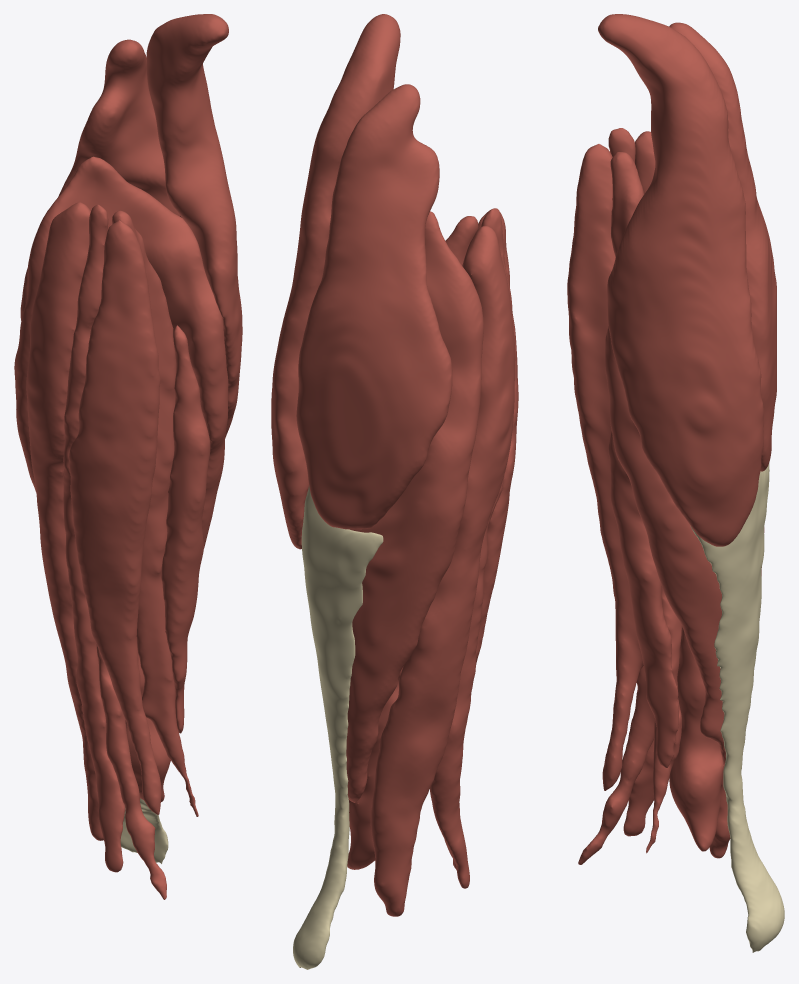
The model's file is leg.glb.
3 renders of one model, left to right at view 1: azimuth 30°, elevation 25°; view 2: azimuth 150°, elevation 25°; view 3: azimuth 270°, elevation 25°, orthographic. The views are drawn at different scales.
Parts seen in each view (by area): view 1: tibialis-anterior, soleus, gastrocnemius-medial, peroneus-longus, tibialis-posterior, extensor-digitorum-longus, flexor-digitorum-longus, gastrocnemius-lateral, extensor-hallucis-longus, flexor-hallucis-longus, achilles-tendon; view 2: gastrocnemius-lateral, peroneus-longus, soleus, gastrocnemius-medial, achilles-tendon, extensor-digitorum-longus, tibialis-anterior, flexor-hallucis-longus, tibialis-posterior; view 3: gastrocnemius-medial, tibialis-anterior, achilles-tendon, soleus, flexor-digitorum-longus, gastrocnemius-lateral, flexor-hallucis-longus, tibialis-posterior, extensor-hallucis-longus, extensor-digitorum-longus, peroneus-longus.
Part boxes in pixels (left/top/right/bottom): tibialis-anterior: left=69, top=220, right=161, bottom=814; soleus: left=14, top=156, right=228, bottom=547; gastrocnemius-medial: left=146, top=14, right=242, bottom=437; peroneus-longus: left=26, top=202, right=103, bottom=840; tibialis-posterior: left=112, top=210, right=198, bottom=816; extensor-digitorum-longus: left=63, top=204, right=125, bottom=872; flexor-digitorum-longus: left=161, top=325, right=210, bottom=733; gastrocnemius-lateral: left=20, top=39, right=180, bottom=320; extensor-hallucis-longus: left=96, top=644, right=166, bottom=899; flexor-hallucis-longus: left=125, top=653, right=170, bottom=801; achilles-tendon: left=120, top=798, right=168, bottom=863; gastrocnemius-lateral: left=296, top=84, right=452, bottom=529; peroneus-longus: left=370, top=226, right=515, bottom=916; soleus: left=346, top=211, right=483, bottom=802; gastrocnemius-medial: left=271, top=14, right=400, bottom=549; achilles-tendon: left=293, top=485, right=383, bottom=969; extensor-digitorum-longus: left=430, top=208, right=512, bottom=888; tibialis-anterior: left=476, top=210, right=518, bottom=664; flexor-hallucis-longus: left=347, top=667, right=402, bottom=869; tibialis-posterior: left=445, top=216, right=478, bottom=265; gastrocnemius-medial: left=598, top=14, right=763, bottom=546; tibialis-anterior: left=567, top=144, right=643, bottom=790; achilles-tendon: left=690, top=463, right=784, bottom=952; soleus: left=605, top=326, right=764, bottom=765; flexor-digitorum-longus: left=608, top=432, right=678, bottom=767; gastrocnemius-lateral: left=669, top=22, right=776, bottom=471; flexor-hallucis-longus: left=669, top=626, right=723, bottom=851; tibialis-posterior: left=610, top=152, right=681, bottom=853; extensor-hallucis-longus: left=578, top=666, right=654, bottom=864; extensor-digitorum-longus: left=608, top=128, right=653, bottom=836; peroneus-longus: left=635, top=131, right=730, bottom=858.
Size of the model in its own units: 1.12 by 4.76 by 1.07.
